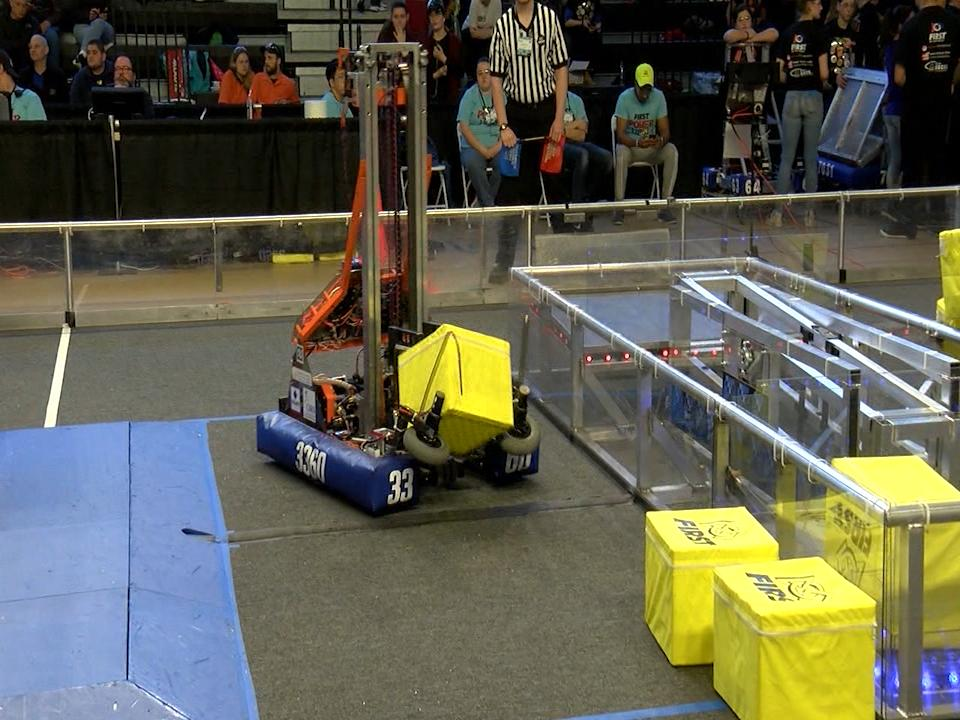robot: (250, 36, 545, 516)
